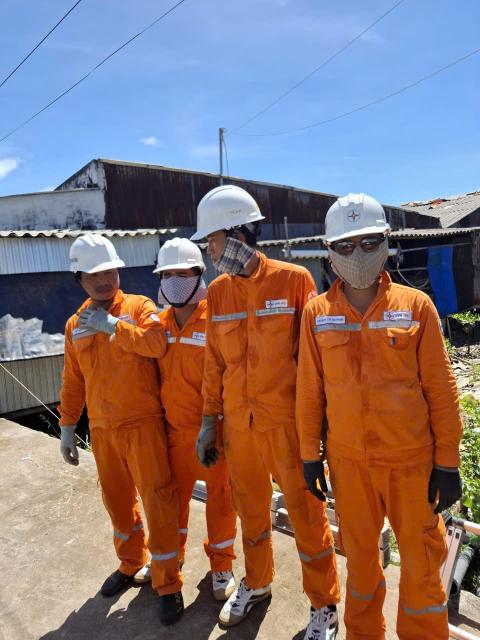gloves: (419, 451, 469, 520), (58, 300, 131, 344), (293, 450, 342, 507), (48, 420, 91, 469), (192, 408, 225, 468)
helmet: (183, 178, 274, 240), (56, 224, 136, 285), (314, 191, 395, 244), (153, 236, 203, 278)
shoes: (208, 568, 277, 628), (294, 590, 345, 640), (92, 560, 134, 610), (151, 586, 194, 628), (132, 548, 186, 580), (208, 553, 236, 601)
